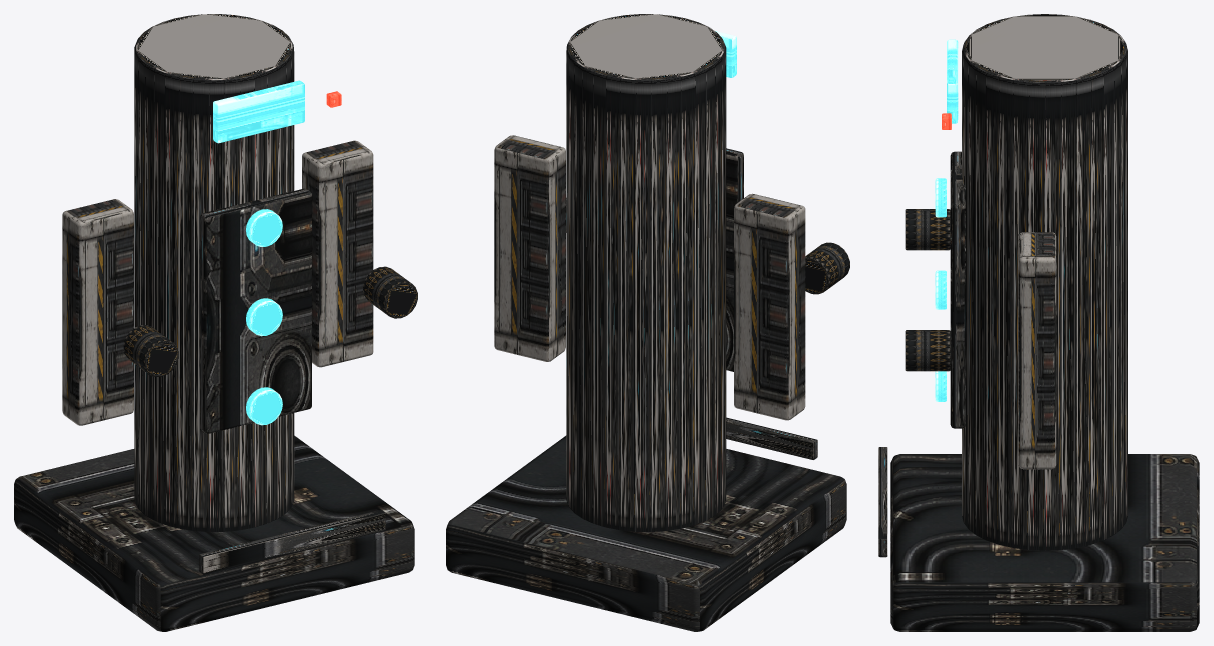
File: room_l1_img2_robot_docking_post.glb
The picture shows the model from 3 angles, left to right: view 1: azimuth 30°, elevation 25°; view 2: azimuth 150°, elevation 25°; view 3: azimuth 270°, elevation 25°; orthographic projection. The views are drawn at different scales.
Parts seen in each view (by area): view 1: central_robot_dock_column, round_docking_base_proxy, front_socket_plate, robot_alignment_arm, robot_alignment_arm.001, base_hazard_ring_front, docking_status_screen, rubber_bumper_cap, rubber_bumper_cap.001, charging_contact_socket_0.55, charging_contact_socket_1.09, charging_contact_socket_0.82; view 2: central_robot_dock_column, round_docking_base_proxy, robot_alignment_arm.001, robot_alignment_arm, front_socket_plate, base_hazard_ring_front, rubber_bumper_cap; view 3: central_robot_dock_column, round_docking_base_proxy, robot_alignment_arm.001, front_socket_plate, rubber_bumper_cap.001, rubber_bumper_cap, base_hazard_ring_front, docking_status_screen, charging_contact_socket_0.82, charging_contact_socket_1.09.
Part boxes in pixels (box(x1,y1,x2,y2)): central_robot_dock_column: box(134, 14, 294, 531); round_docking_base_proxy: box(14, 435, 414, 631); front_socket_plate: box(200, 188, 311, 433); robot_alignment_arm: box(62, 199, 133, 425); robot_alignment_arm.001: box(302, 140, 373, 367); base_hazard_ring_front: box(199, 510, 385, 574); docking_status_screen: box(213, 80, 304, 143); rubber_bumper_cap: box(123, 325, 178, 376); rubber_bumper_cap.001: box(363, 266, 417, 318); charging_contact_socket_0.55: box(246, 387, 282, 425); charging_contact_socket_1.09: box(246, 209, 282, 246); charging_contact_socket_0.82: box(246, 298, 282, 336); central_robot_dock_column: box(566, 14, 726, 531); round_docking_base_proxy: box(446, 435, 846, 631); robot_alignment_arm.001: box(494, 135, 565, 361); robot_alignment_arm: box(734, 193, 805, 420); front_socket_plate: box(726, 148, 743, 371); base_hazard_ring_front: box(726, 417, 817, 459); rubber_bumper_cap: box(805, 242, 849, 294); central_robot_dock_column: box(962, 14, 1127, 550); round_docking_base_proxy: box(890, 454, 1199, 631); robot_alignment_arm.001: box(1018, 232, 1056, 469); front_socket_plate: box(950, 151, 965, 428); rubber_bumper_cap.001: box(905, 330, 950, 371); rubber_bumper_cap: box(905, 209, 950, 250); base_hazard_ring_front: box(878, 447, 887, 557); docking_status_screen: box(947, 39, 958, 123); charging_contact_socket_0.82: box(935, 270, 946, 309); charging_contact_socket_1.09: box(935, 178, 946, 217).
Bounding box in the file's own units: 0.94 × 1.53 × 0.852.
Materials: 8 (8 with a texture image).
